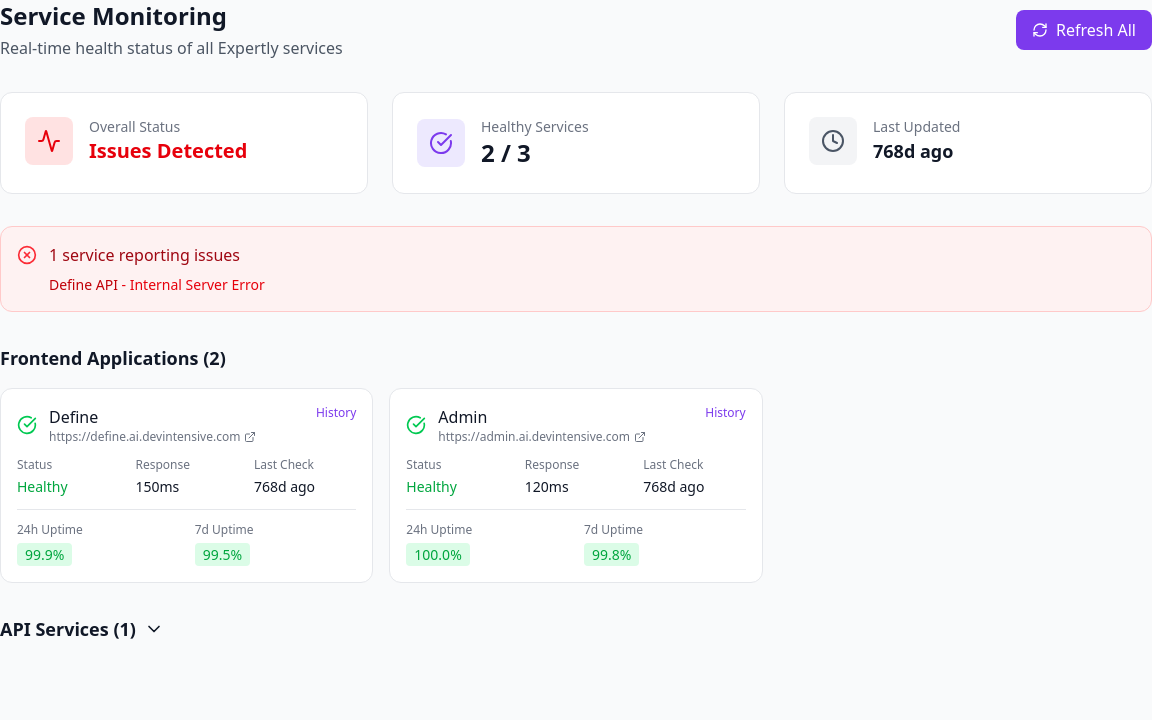
Scenario: Monitoring › closes history panel when close button is clicked
Expected: the heading "Define" is shown, left=49, top=406, right=98, bottom=428
Click the 1st button "History" at [336, 413], box left=316, top=405, right=356, bottom=421
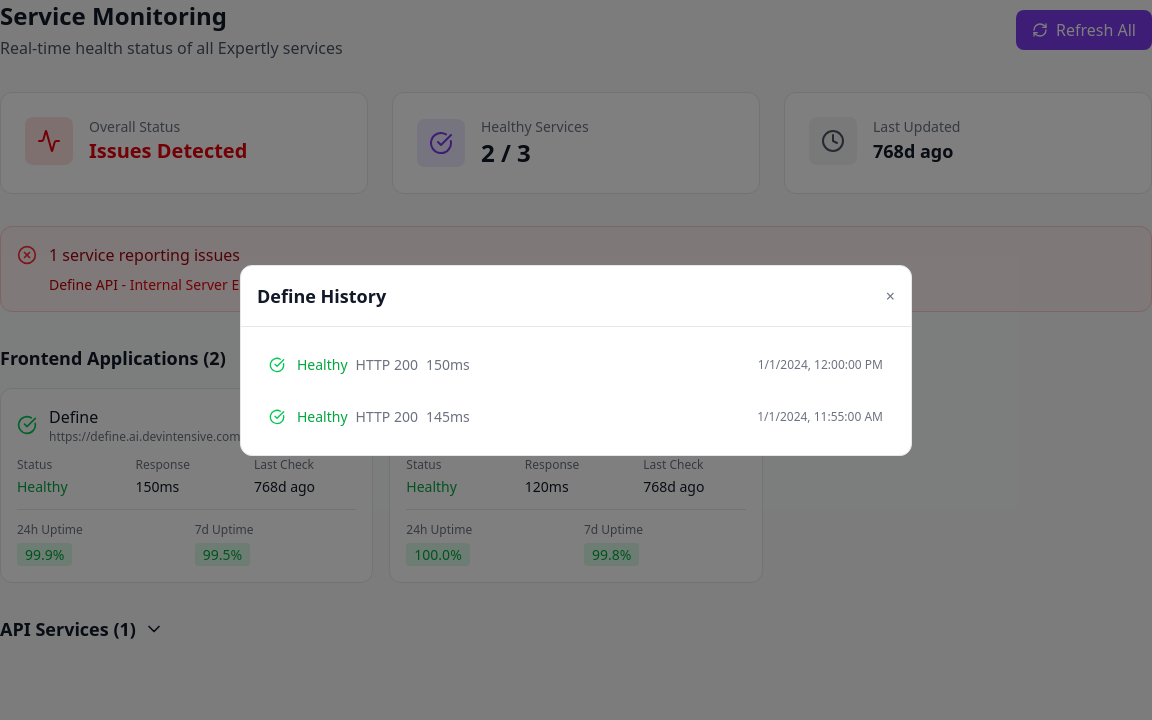
Now the heading "Define History" is shown, box left=257, top=282, right=386, bottom=310
// Find the close button (the x symbol)
Click the button "×" at [890, 296], box left=886, top=284, right=895, bottom=308
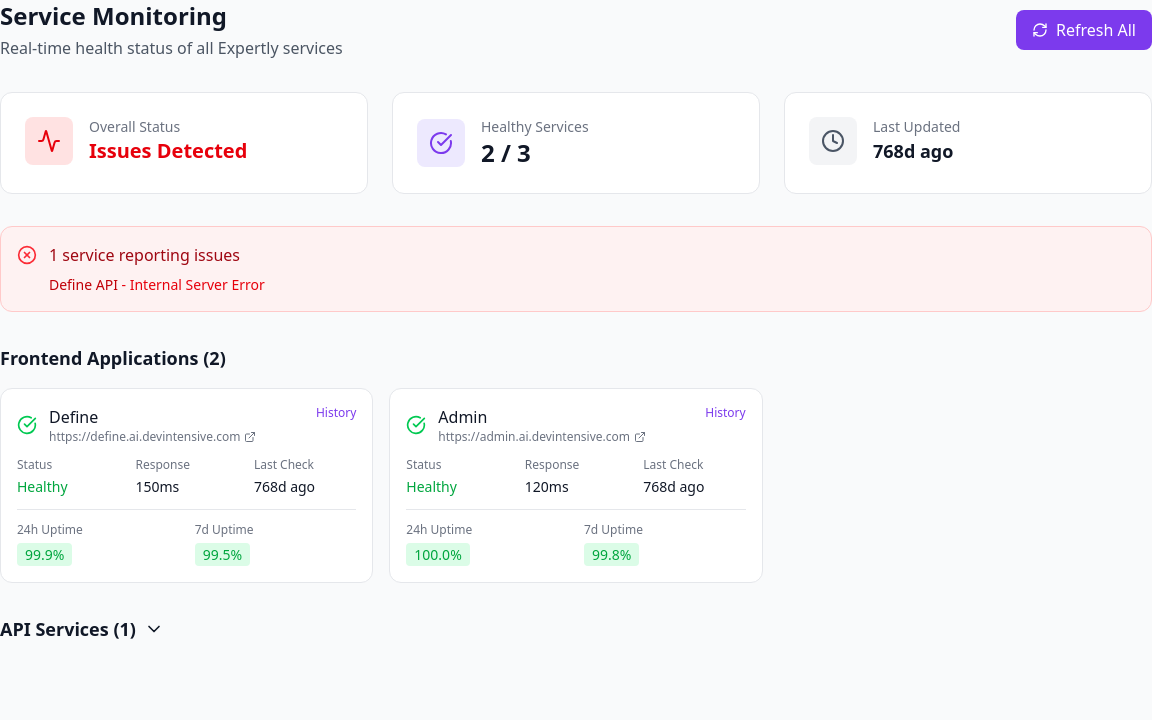
Now the heading "Define History" is gone
